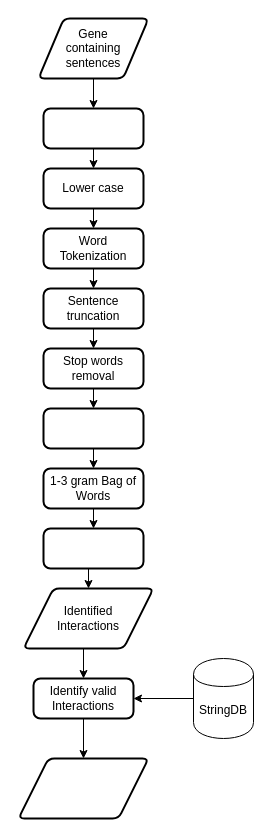
Some shapes in this 271 by 836 pixel diagram are drawn without their labels. Here are the shapes that lost their labels. From the top down, the centre of each, then its label:
(x=93, y=128): String trimming
(x=93, y=428): Stemming
(x=93, y=548): Classification
(x=83, y=788): Backend Response
